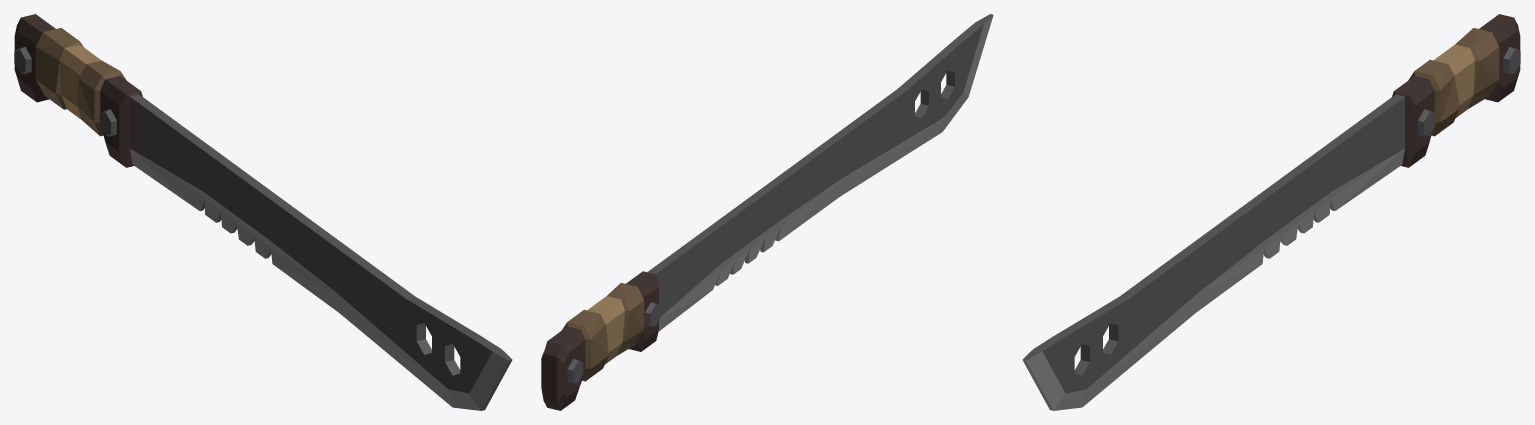
File: sword.obj
3 views of the same model, side by side, from view 1: azimuth 30°, elevation 25°; view 2: azimuth 150°, elevation 25°; view 3: azimuth 330°, elevation 25° (orthographic). The views are drawn at different scales.
Parts seen in each view (by area): view 1: sword.obj; view 2: sword.obj; view 3: sword.obj.
Part boxes in pixels (x1,y1,x2,y2): sword.obj: [14, 14, 512, 410]; sword.obj: [541, 14, 993, 410]; sword.obj: [1022, 14, 1520, 410].
Bounding box in the file's own units: 0.0753 × 0.1814 × 1.82.
